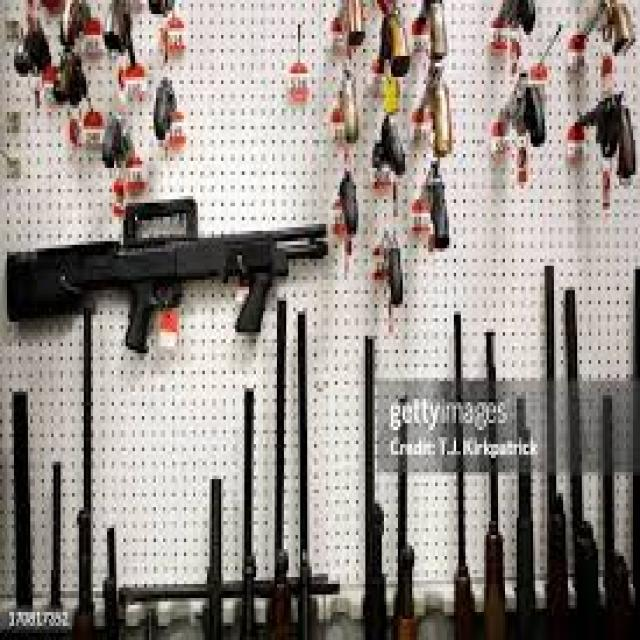gun: (0, 200, 351, 361)
